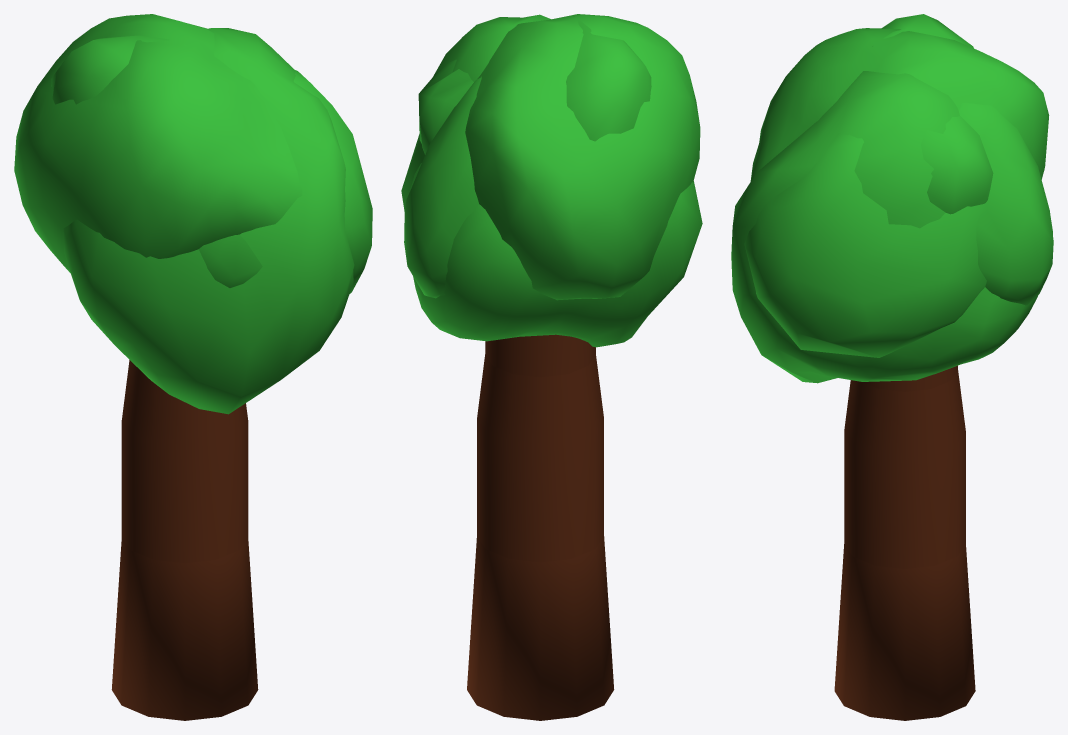
The model's file is models.fbx.
3 views of the same model, side by side, from view 1: azimuth 30°, elevation 25°; view 2: azimuth 150°, elevation 25°; view 3: azimuth 270°, elevation 25° (orthographic). The views are drawn at different scales.
Parts seen in each view (by area): view 1: tree2, tree1, tree4, tree3; view 2: tree2, tree1, tree4, tree3; view 3: tree2, tree1, tree3, tree4.
Part boxes in pixels (x1=…): tree2: x1=14, y1=14, x2=372, y2=563; tree1: x1=63, y1=28, x2=354, y2=720; tree4: x1=51, y1=35, x2=185, y2=104; tree3: x1=198, y1=234, x2=262, y2=287; tree2: x1=401, y1=14, x2=700, y2=562; tree1: x1=413, y1=14, x2=702, y2=720; tree4: x1=418, y1=16, x2=651, y2=154; tree3: x1=404, y1=76, x2=481, y2=298; tree2: x1=744, y1=28, x2=1049, y2=568; tree1: x1=731, y1=71, x2=1052, y2=720; tree3: x1=959, y1=102, x2=1053, y2=305; tree4: x1=872, y1=14, x2=993, y2=214.
Size of the model in its own units: 753 by 1762 by 799.
1 material, 1 textured.
